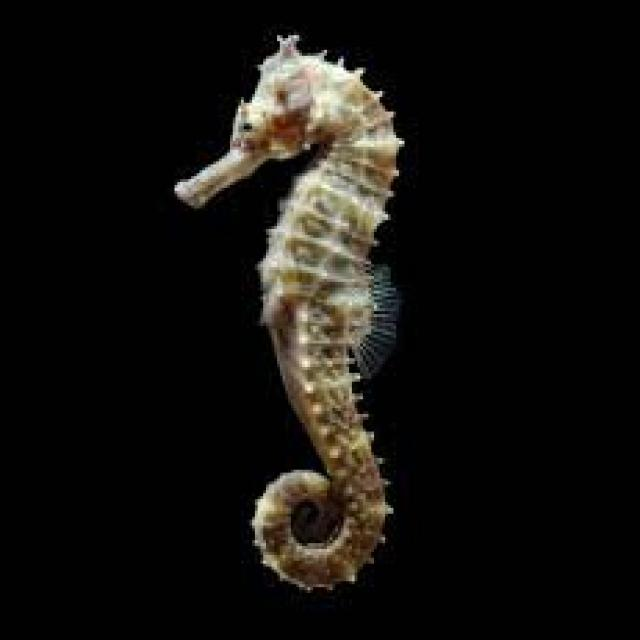seahorse: (177, 35, 402, 587)
